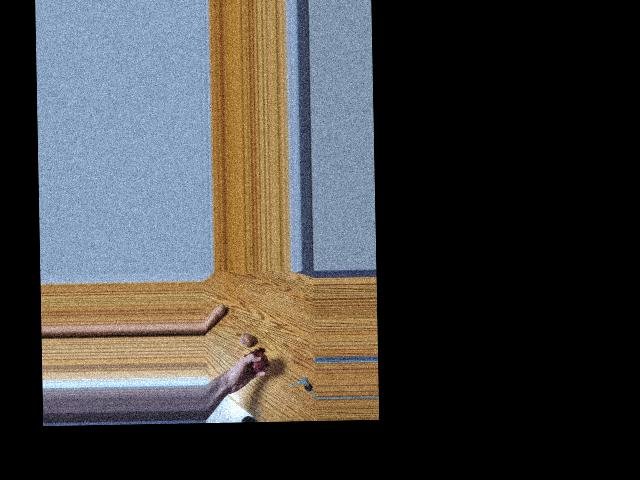onion: (250, 352, 268, 371)
